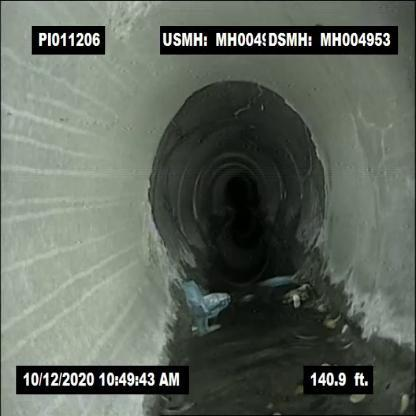obsc: (157, 266, 242, 325), (254, 252, 303, 299)
